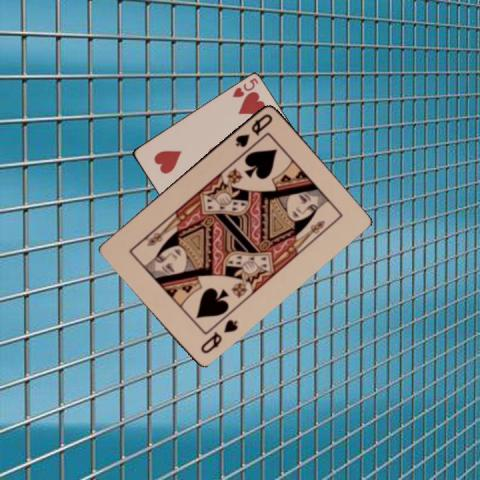5h: (229, 76, 260, 100)
Qs: (197, 316, 240, 355), (232, 110, 275, 148)
